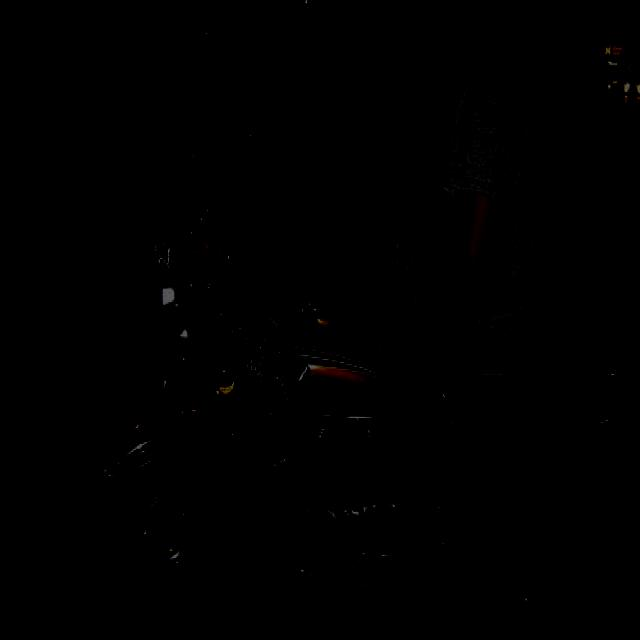Motorbike: (75, 145, 640, 640)
